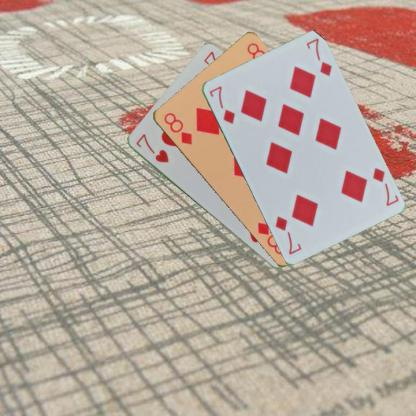7d: (370, 165, 399, 208), (207, 83, 236, 125)
7h: (133, 131, 170, 164)
8d: (159, 110, 193, 146)
